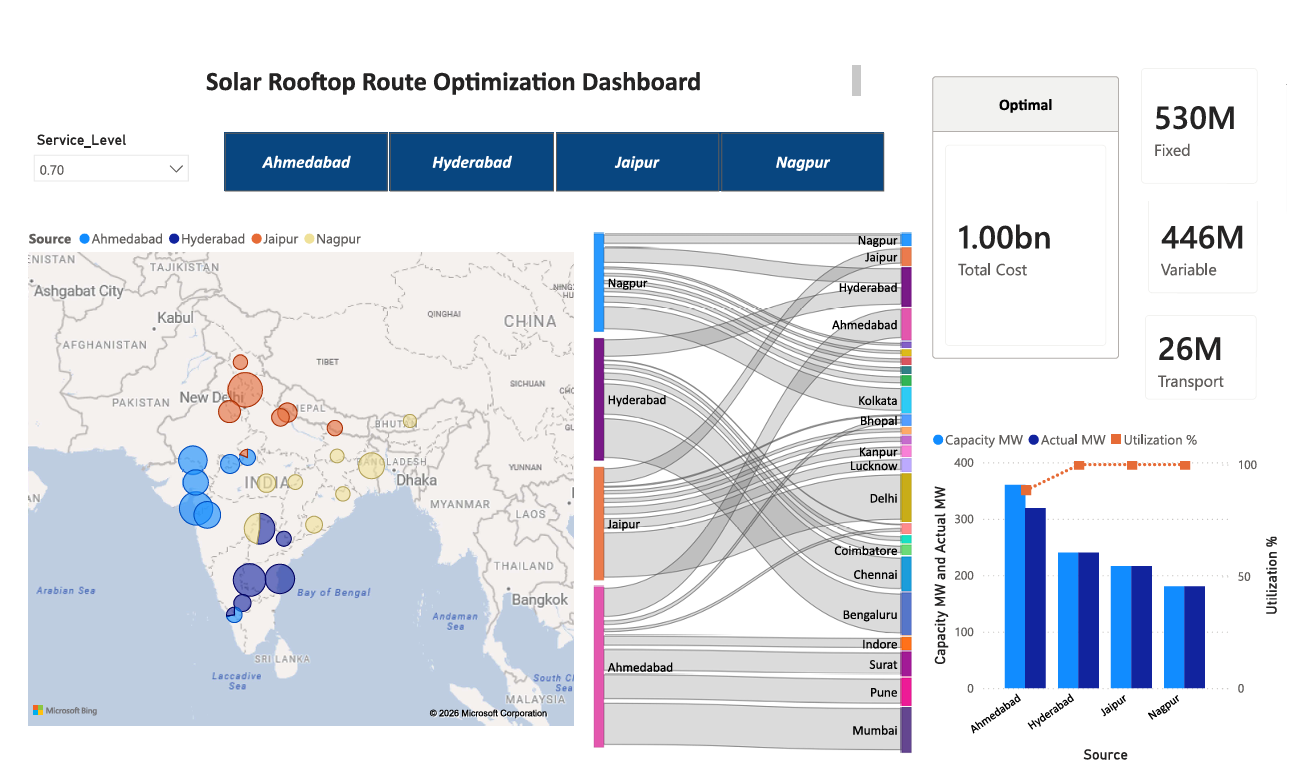

The dashboard page shown, as its layout file describes it:
{"tool":"powerbi","page":{"name":"Page 1","canvas":[1280,720],"ordinal":0},"visuals":[{"type":"map","fields":{"Y":["flow_map_df.Dest_Lat"],"X":["flow_map_df.Dest_Lon"],"Size":["Sum(flow_map_df.Flow_MW)"],"Series":["flow_map_df.Source"]},"box":[11,167.5,557.6,552.7],"z":0},{"type":"slicer","fields":{"Values":["flow_map_df.Source"]},"box":[187.1,74.6,712.9,73.4],"z":1000},{"type":"slicer","fields":{"Values":["flow_map_df.Service_Level"]},"box":[11,75.8,176.1,73.4],"z":2000},{"type":"sankey02300D1BE6F5427989F3DE31CCA9E0F32020","fields":{"Source":["flow_map_df.Source"],"Destination":["flow_map_df.Destination"],"Weight":["Sum(flow_map_df.Flow_MW)"]},"box":[568.6,167.5,360.7,552.7],"z":3000},{"type":"lineClusteredColumnComboChart","fields":{"Category":["flow_map_df.Source"],"Y":["Sum(sites.Annual Capacity)","Sum(flow_map_df.Flow_MW)"],"Y2":["flow_map_df.Utilization %"]},"box":[919.4,370.5,358.1,349.9],"z":4000},{"type":"cardVisual","fields":{"Data":["Sum(flow_map_df.Transport_Cost)"]},"box":[1121.1,248.4,146.8,119.4],"z":5000},{"type":"cardVisual","fields":{"Data":["Sum(flow_map_df.Production_Cost)"]},"box":[1123.8,130.4,144.1,130.4],"z":6000},{"type":"cardVisual","fields":{"Data":["Sum(sites.Fixed Cost/Year)"]},"box":[1117,0,150.9,149.6],"z":7000},{"type":"cardVisual","fields":{"Rows":["flow_map_df.Status"],"Data":["flow_map_df.Total Cost"]},"box":[919.4,0,197.6,334],"z":8000},{"type":"textbox","box":[36.7,8.6,820.5,41.6],"z":8001}]}

Visuals, with their boxes on the page's 1280x720 design canvas (x1, y1, x2, y2). These are canvas units, not pixel positions in the 1297x773 screenshot, which may show the page scaled, cropped or inside an application window:
map - flow_map_df.Dest_Lat x flow_map_df.Dest_Lon: bbox(11, 168, 569, 720)
slicer - flow_map_df.Source: bbox(187, 75, 900, 148)
slicer - flow_map_df.Service_Level: bbox(11, 76, 187, 149)
sankey02300D1BE6F5427989F3DE31CCA9E0F32020 - flow_map_df.Source x flow_map_df.Destination: bbox(569, 168, 929, 720)
lineClusteredColumnComboChart - flow_map_df.Source x Sum(sites.Annual Capacity): bbox(919, 370, 1278, 720)
cardVisual - Sum(flow_map_df.Transport_Cost): bbox(1121, 248, 1268, 368)
cardVisual - Sum(flow_map_df.Production_Cost): bbox(1124, 130, 1268, 261)
cardVisual - Sum(sites.Fixed Cost/Year): bbox(1117, 0, 1268, 150)
cardVisual - flow_map_df.Status x flow_map_df.Total Cost: bbox(919, 0, 1117, 334)
textbox: bbox(37, 9, 857, 50)
